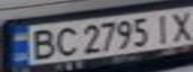2: (78, 20, 103, 55)
5: (130, 15, 154, 47)
7: (97, 19, 118, 52)
9: (115, 17, 136, 50)
B: (21, 26, 60, 61)
C: (48, 25, 81, 57)
I: (148, 11, 175, 44)
X: (163, 8, 193, 42)
